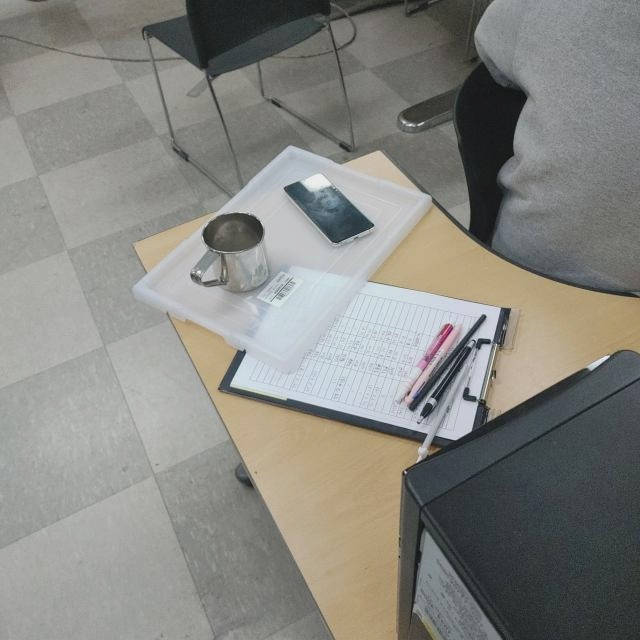cup: (190, 209, 270, 294)
phone: (283, 171, 375, 251)
